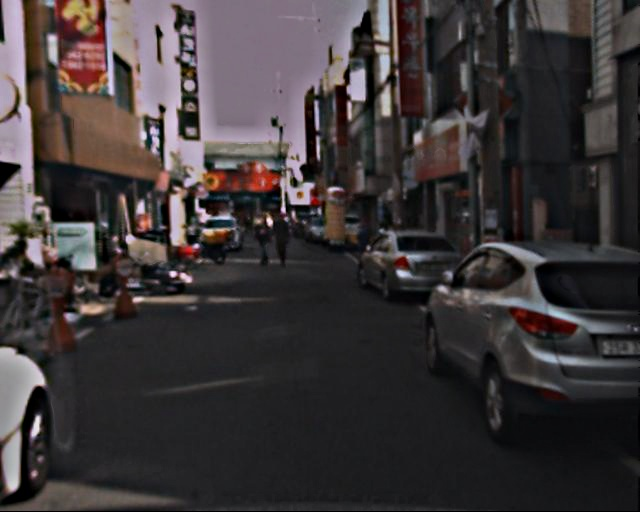person: (273, 212, 298, 276), (356, 213, 380, 279), (256, 218, 277, 274)
